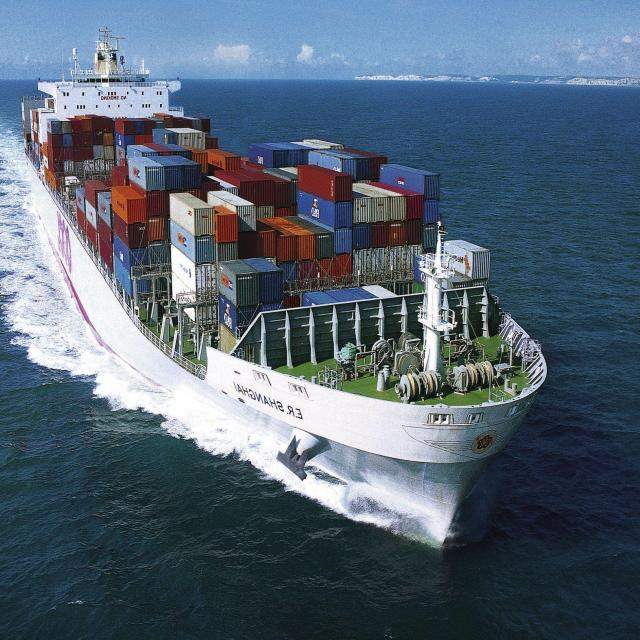cargoship: (11, 20, 569, 536)
